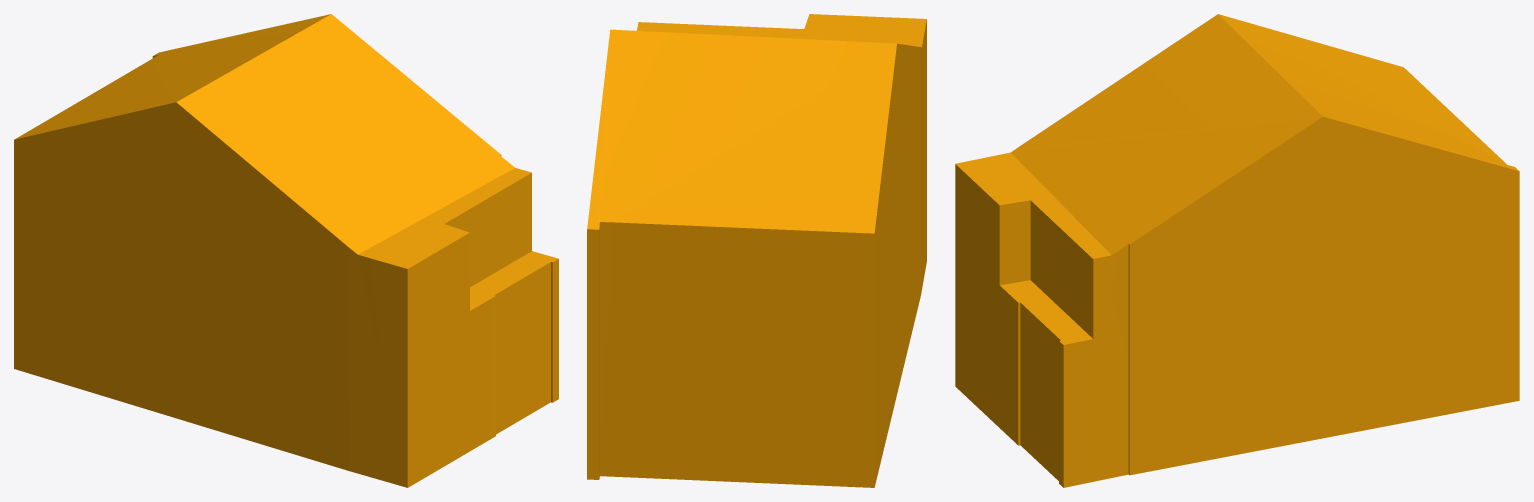
The model's file is DEHB01ALk00017e7.gltf.
3 renders of one model, left to right at view 1: azimuth 30°, elevation 25°; view 2: azimuth 150°, elevation 25°; view 3: azimuth 270°, elevation 25°, orthographic. The views are drawn at different scales.
Parts seen in each view (by area): view 1: Z_UP; view 2: Z_UP; view 3: Z_UP.
Part boxes in pixels (box(x1,y1,x2,y2)): Z_UP: box(14, 14, 558, 487); Z_UP: box(587, 14, 926, 487); Z_UP: box(955, 14, 1519, 487).
Bounding box in the file's own units: 12.19 × 9.75 × 15.5.
